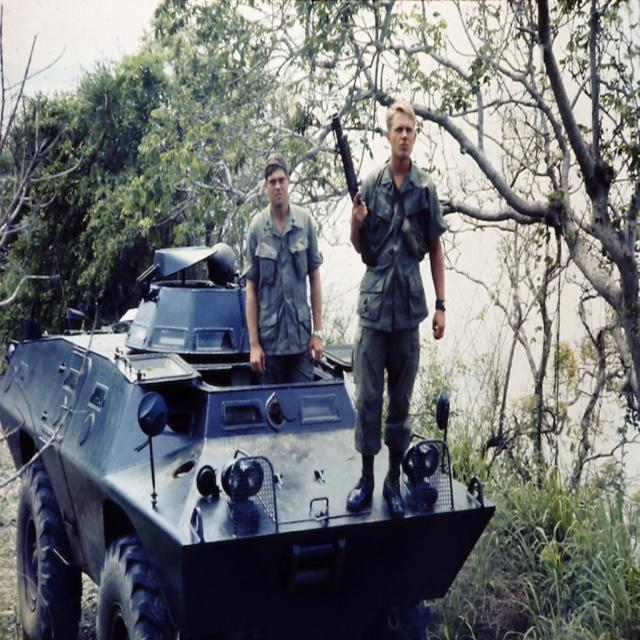tank: (0, 239, 498, 638)
